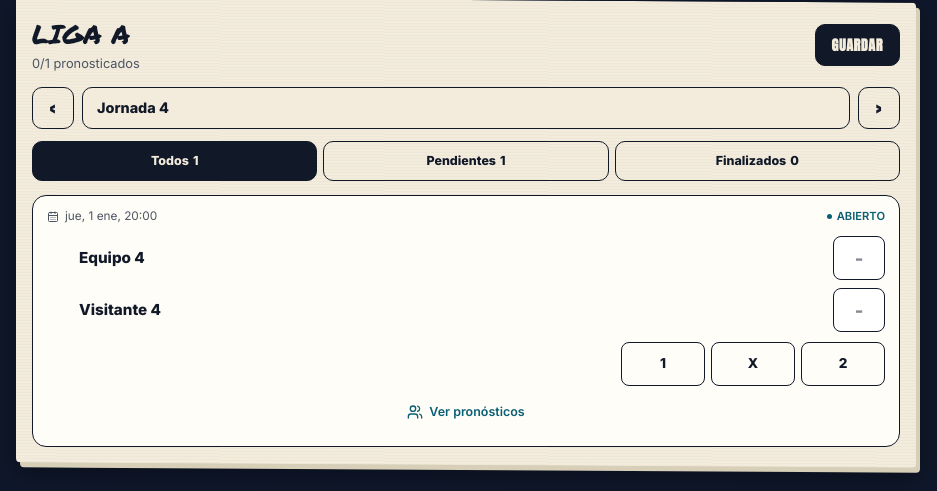
Test case: matchday editing and navigation › lists every round in one selector and navigates with previous/next controls
The width and height of the screenshot is (937, 491).
Check: the dropdown named "Seleccionar jornada" shows "Jornada 4", box [82, 87, 850, 129]
Click the button named "Jornada siguiente".
click(879, 108)  # box [858, 87, 900, 129]
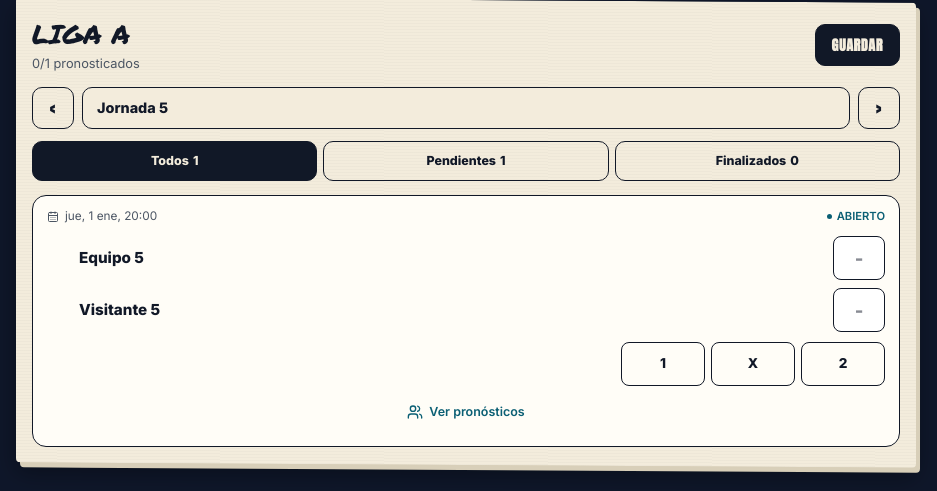
Check: the dropdown named "Seleccionar jornada" shows "Jornada 5"
Select "Jornada 1" in the dropdown named "Seleccionar jornada" at (466, 108), box [82, 87, 850, 129]
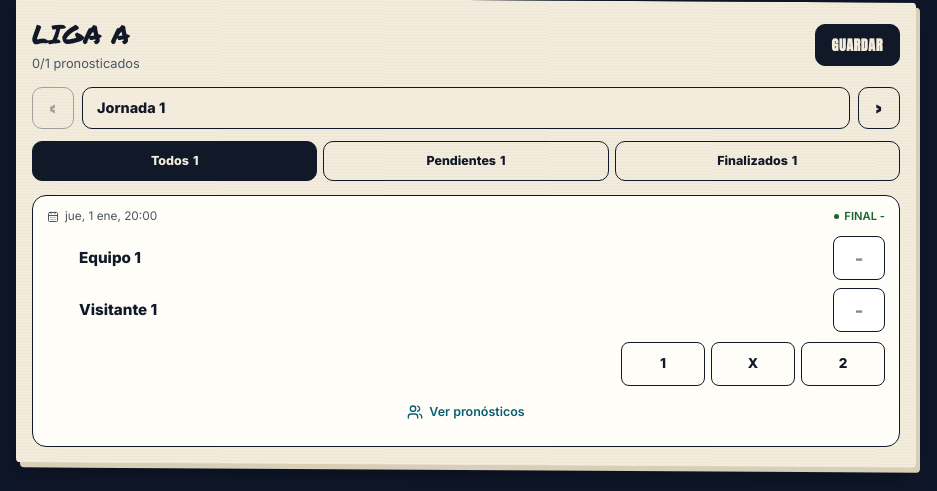
Check: the text "0/1 pronosticados" is shown, box [32, 54, 140, 73]
Check: the button named "Jornada anterior" is disabled, box [32, 87, 74, 129]
